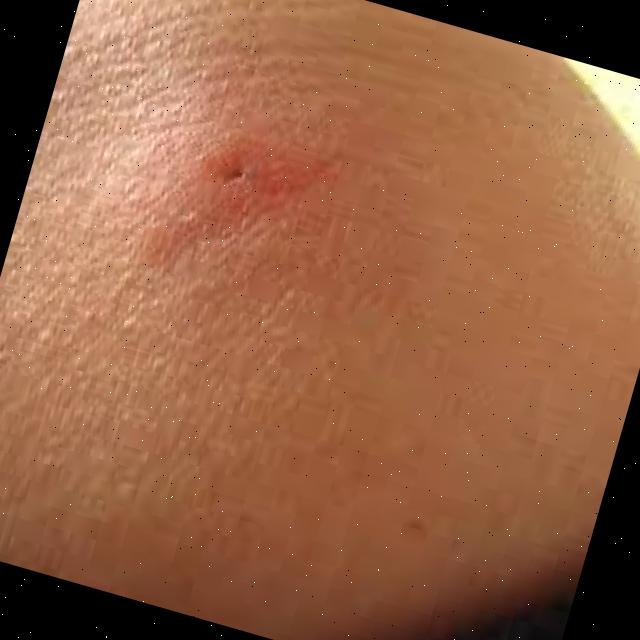kene: (177, 135, 277, 204)
